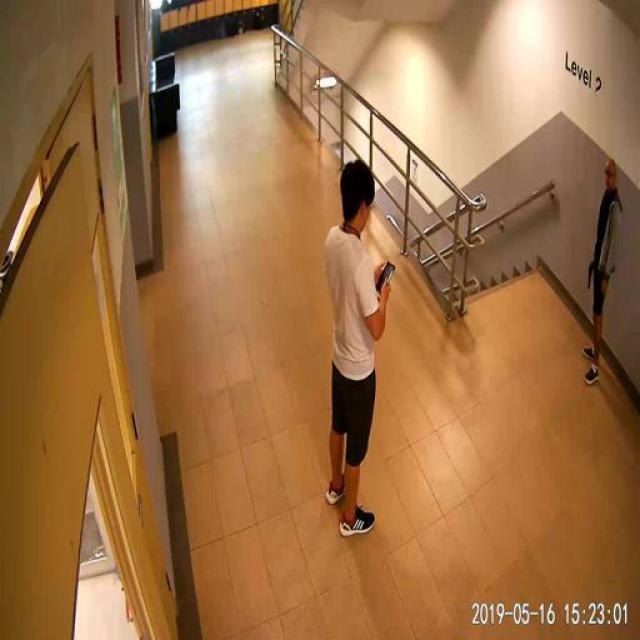weapon: (584, 260, 594, 290)
